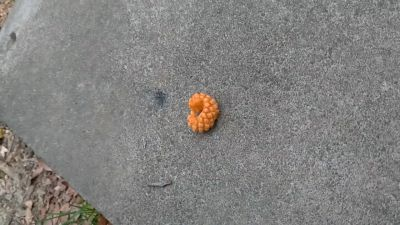eggs: (186, 90, 221, 135)
